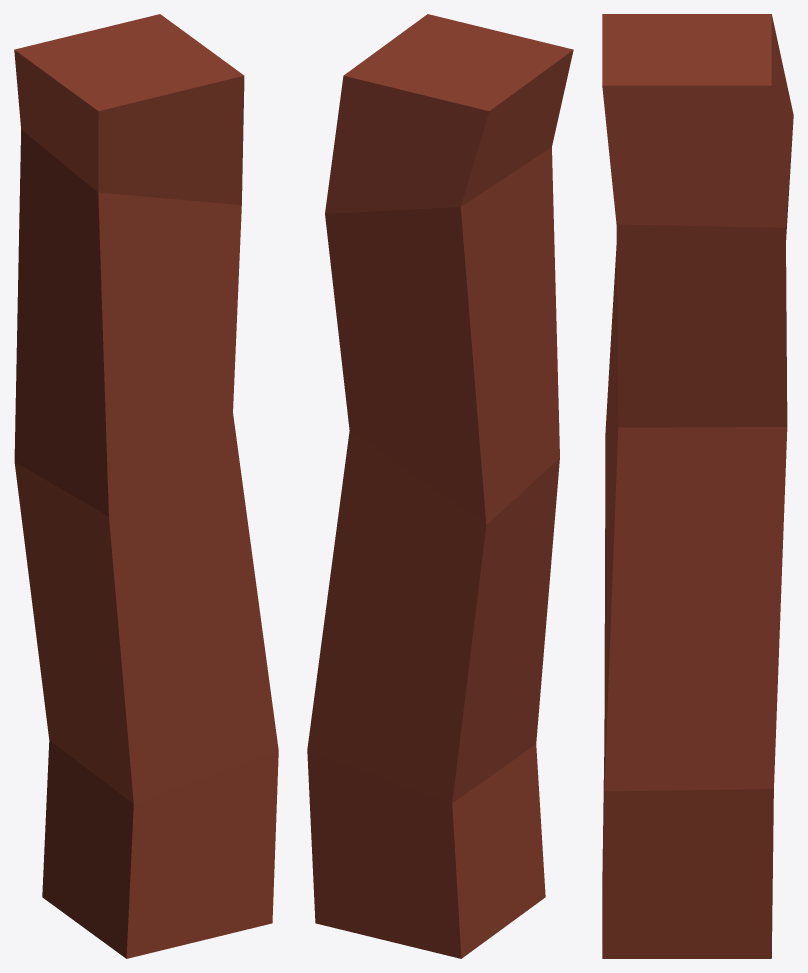
File: wood_3a.fbx
3 views of the same model, side by side, from view 1: azimuth 30°, elevation 25°; view 2: azimuth 150°, elevation 25°; view 3: azimuth 270°, elevation 25° (orthographic).
Parts seen in each view (by area): view 1: wood_3a; view 2: wood_3a; view 3: wood_3a.
Part boxes in pixels (x1=…): wood_3a: x1=14, y1=14, x2=278, y2=958; wood_3a: x1=307, y1=14, x2=573, y2=958; wood_3a: x1=602, y1=14, x2=793, y2=958.
Bounding box in the file's own units: 46.05 × 207 × 41.86.
